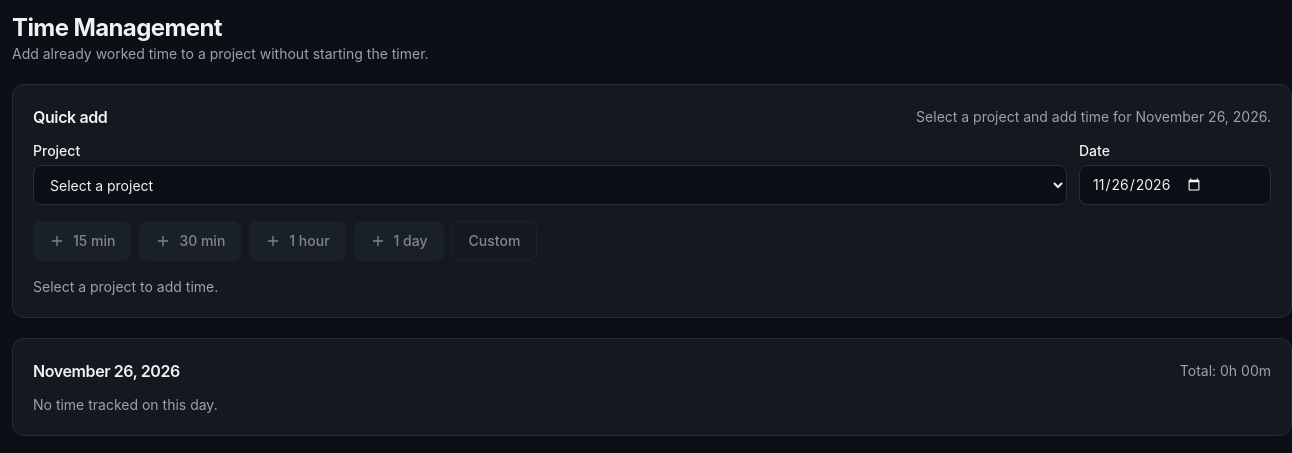
TimeManagementPage › enables quick-add buttons when a project is selected
Select "Alpha" in the dropdown labelled "Project": (550,185) [33, 165, 1067, 205]
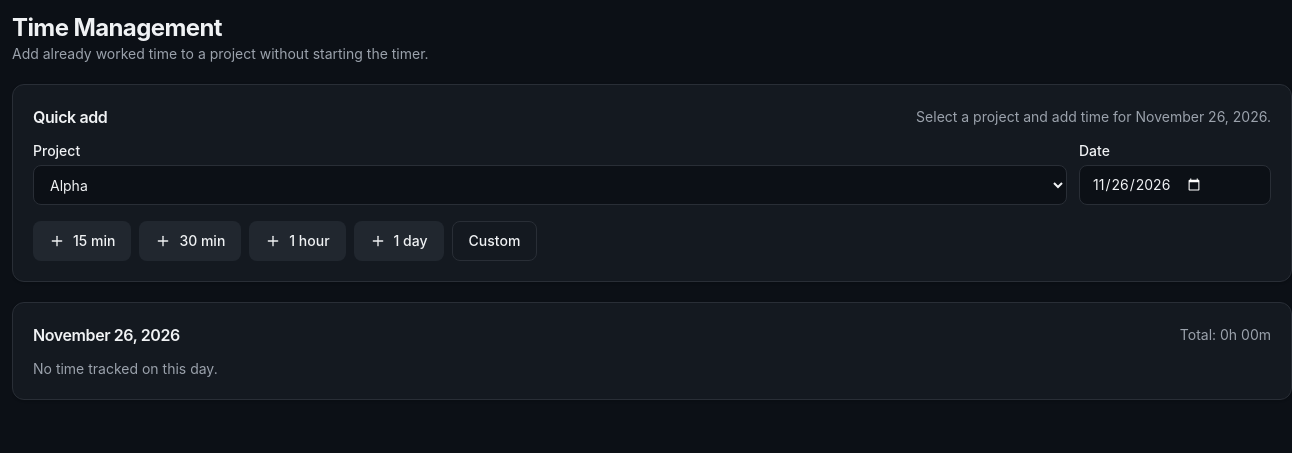
Expected: the button "15 min" is enabled, [33, 221, 131, 261]
